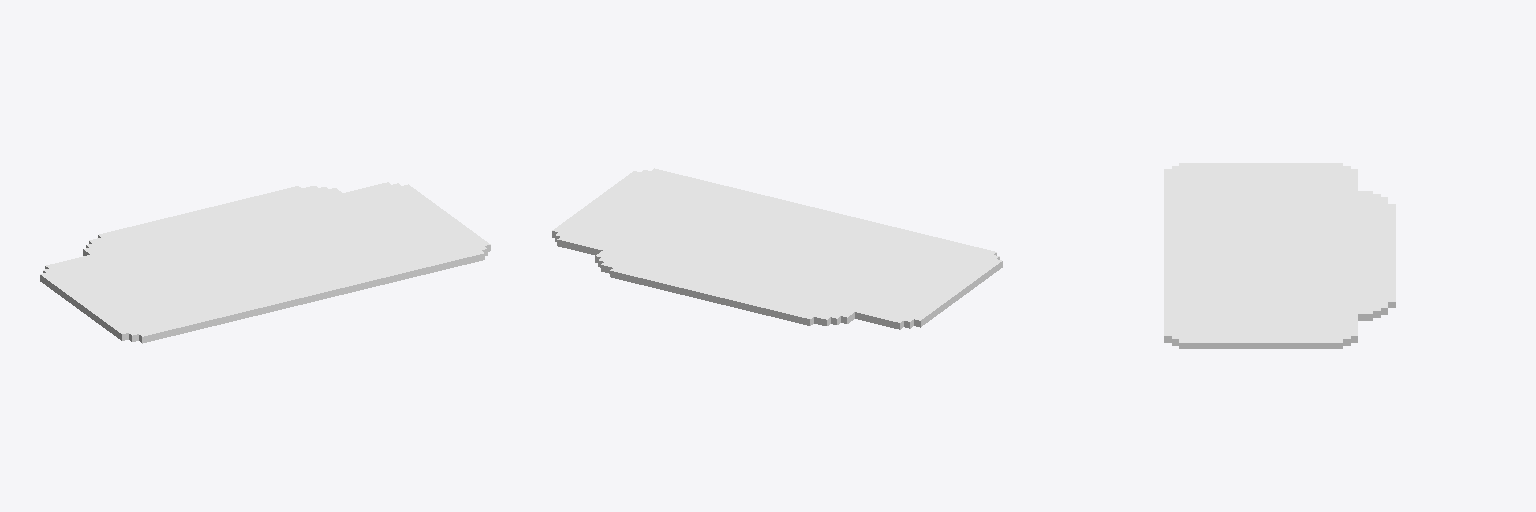
The model's file is sign.obj.
The picture shows the model from 3 angles: view 1: azimuth 30°, elevation 25°; view 2: azimuth 150°, elevation 25°; view 3: azimuth 270°, elevation 25°; orthographic projection.
Size of the model in its own units: 57 by 1 by 31.